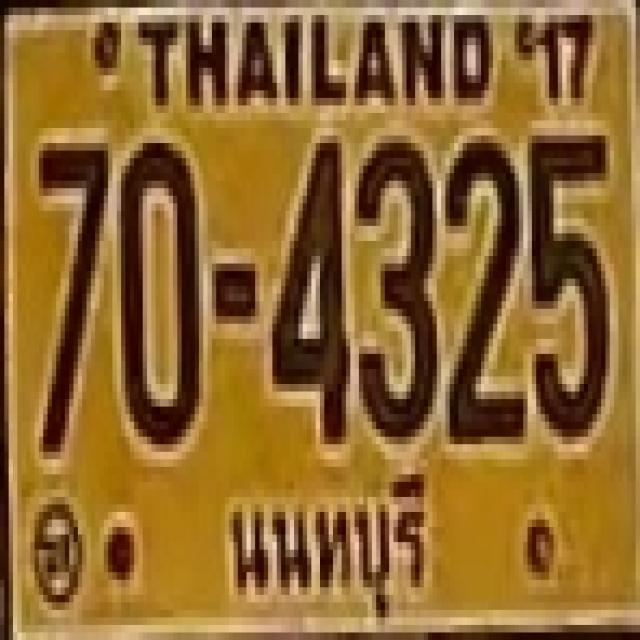0: (116, 136, 194, 437)
2: (443, 136, 521, 437)
3: (354, 136, 432, 437)
4: (268, 136, 346, 437)
5: (528, 128, 606, 429)
7: (34, 136, 104, 444)
NBI: (223, 451, 443, 631)
